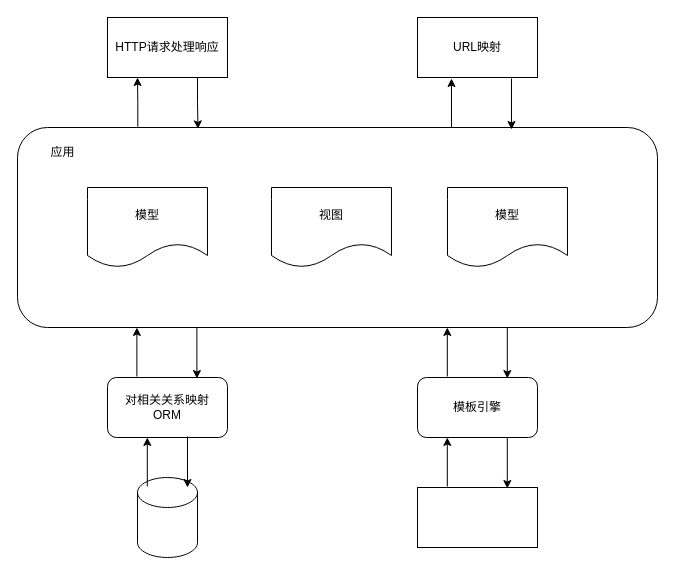
Image size: 675x575. Some labels were removed from this diagram. The centre of each missing label's shape, as x and y in pixels:
数据库: [167,517]
文件系统: [477,517]
